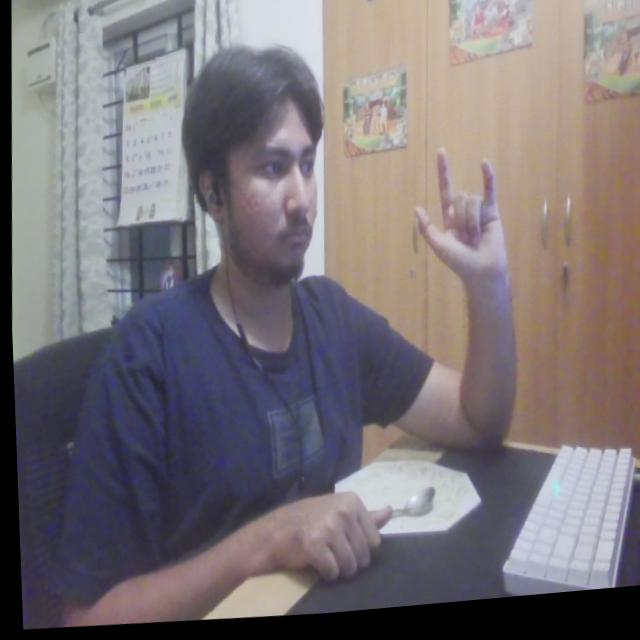iloveyou: (409, 147, 522, 312)
